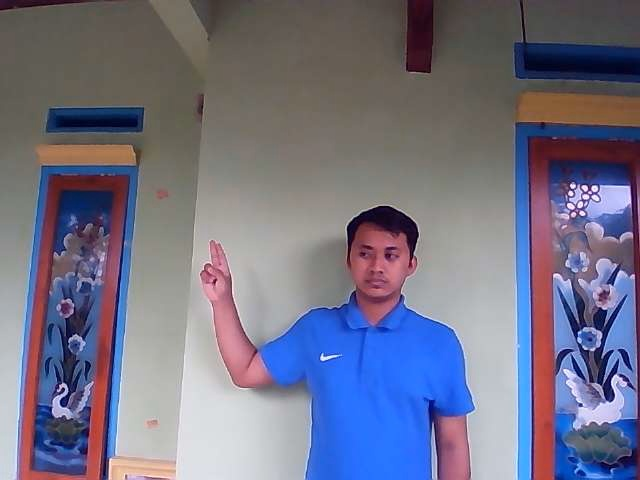U: (199, 239, 233, 299)
